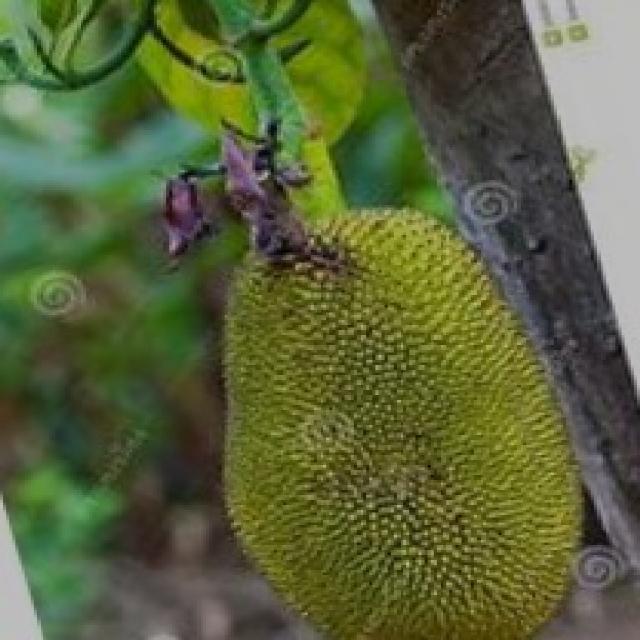Fruit: (184, 182, 630, 638)
